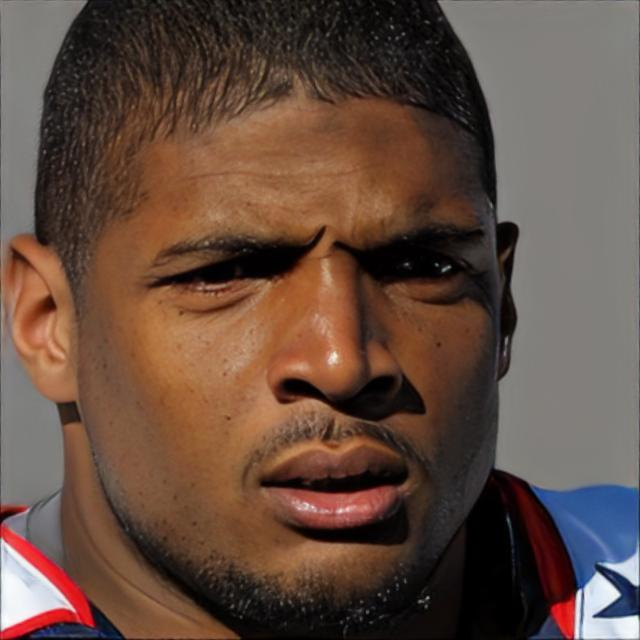disgust: (81, 73, 503, 638)
